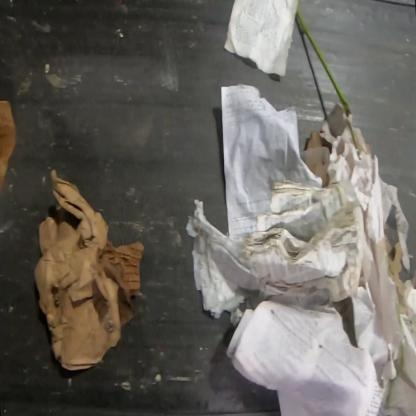cardboard: (32, 169, 147, 372), (0, 99, 17, 197), (385, 235, 405, 302)
